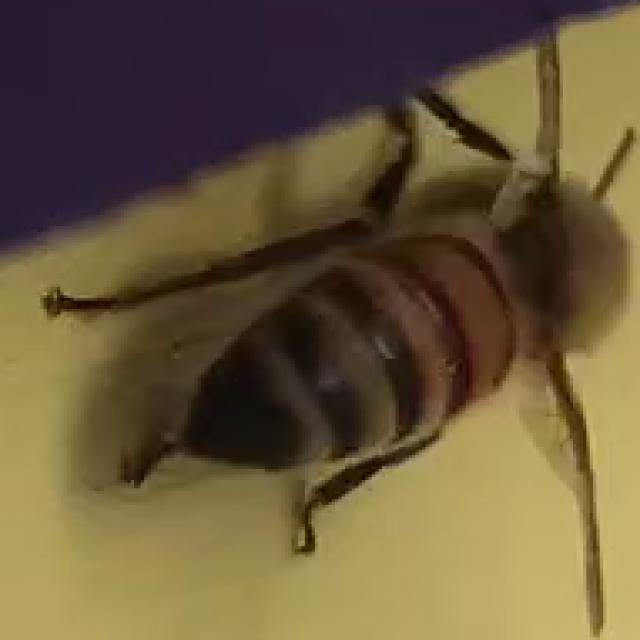honeybee: (118, 46, 640, 560)
